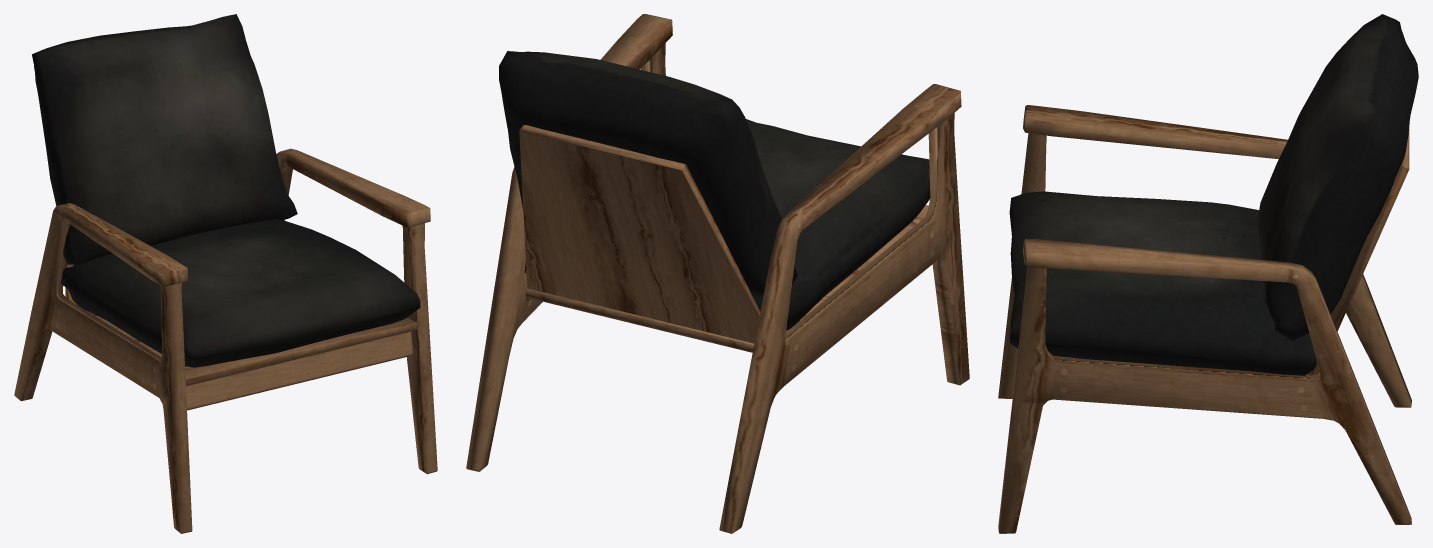
The model's file is modern_arm_chair_01.glb.
3 renders of one model, left to right at view 1: azimuth 30°, elevation 25°; view 2: azimuth 150°, elevation 25°; view 3: azimuth 270°, elevation 25°, orthographic. The views are drawn at different scales.
Parts seen in each view (by area): view 1: modern_arm_chair_01; view 2: modern_arm_chair_01; view 3: modern_arm_chair_01.
Part boxes in pixels (bbox=[...]): modern_arm_chair_01: bbox=[14, 14, 437, 533]; modern_arm_chair_01: bbox=[466, 14, 969, 533]; modern_arm_chair_01: bbox=[998, 14, 1418, 533].
Bounding box in the file's own units: 0.8192 × 1.02 × 0.9863.
2 materials, 2 textured.
